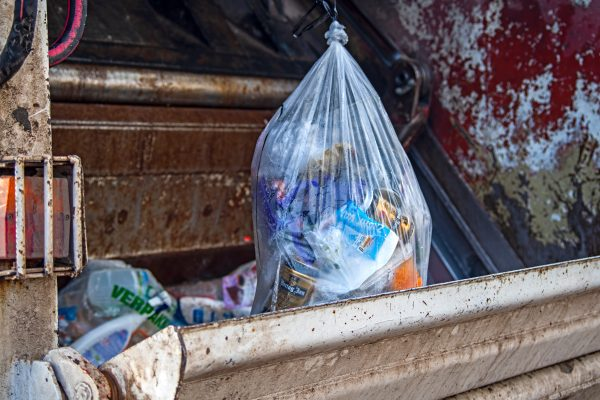plastic_bagwdw: (207, 16, 488, 398)
